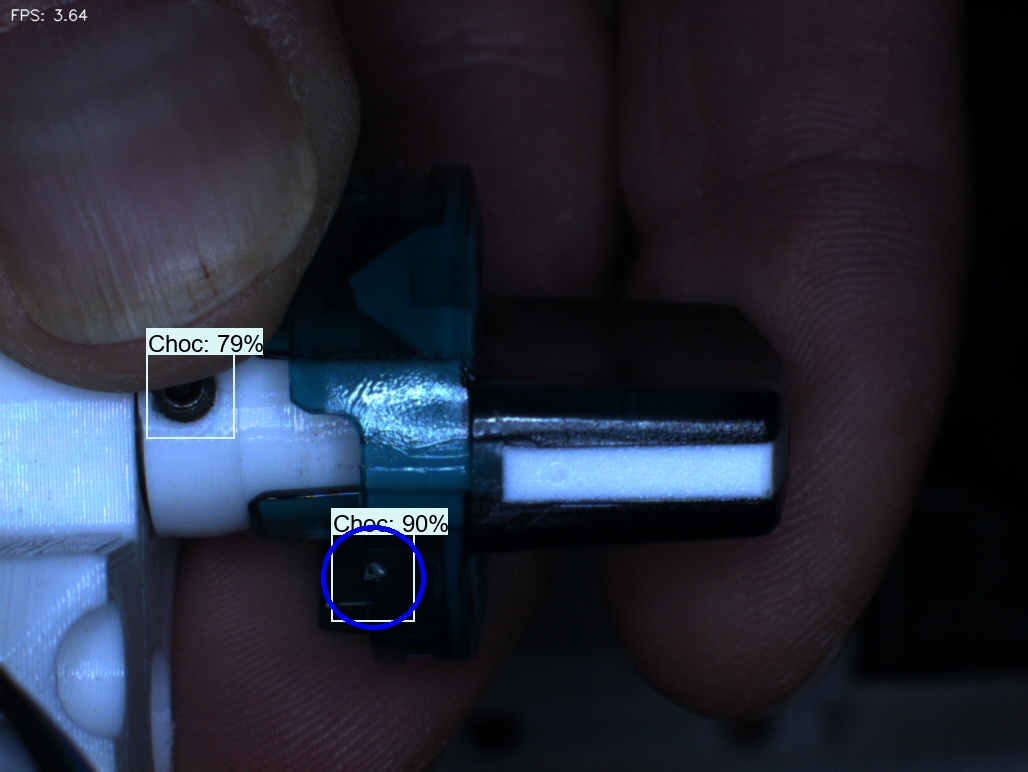DentOk: (321, 234, 389, 337)
